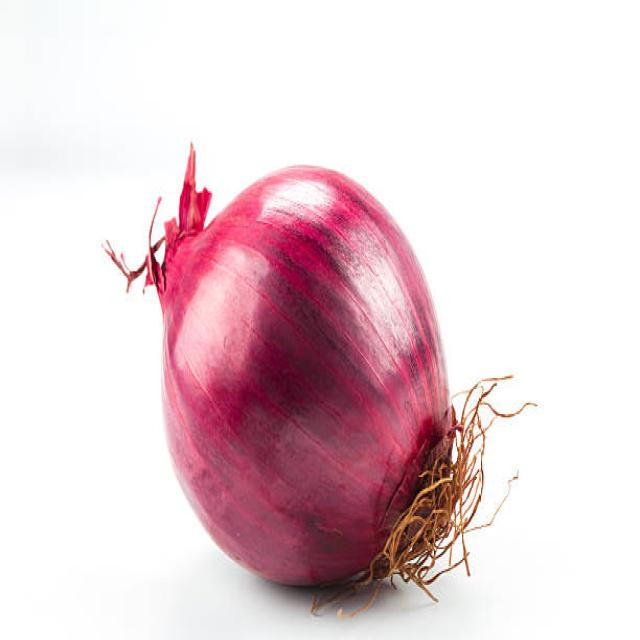onion: (154, 165, 458, 594)
